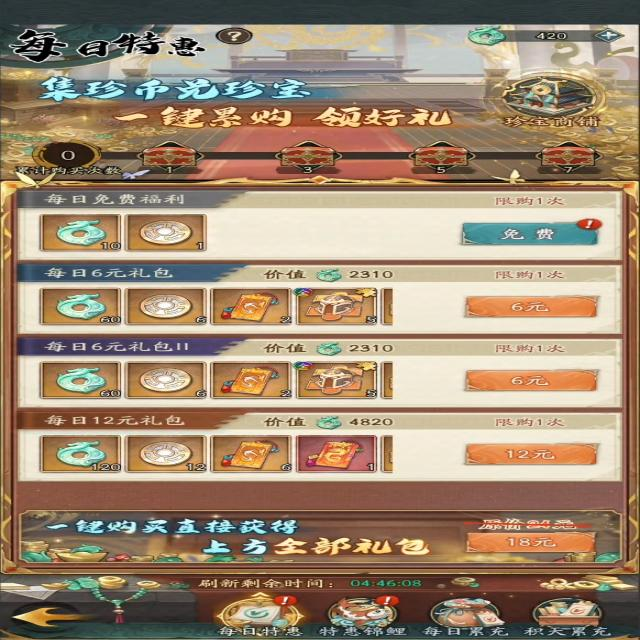hint-reddot: (369, 593, 412, 608), (270, 593, 301, 608)
navigation-DailyDiscount: (215, 596, 316, 638)
navigation-dailySum: (423, 592, 508, 639)
navigation-jitianSum: (516, 592, 624, 640)
navigation-tehuijinli: (320, 594, 412, 639)
navigation-treasureMall: (479, 63, 625, 132)
operation-back: (9, 599, 98, 631)
operation-buy: (447, 218, 605, 247), (452, 292, 603, 320), (460, 367, 604, 396), (458, 529, 606, 556), (458, 439, 600, 466)
ref-buytext: (43, 191, 204, 209), (39, 339, 201, 355), (42, 265, 182, 281), (43, 414, 188, 428)
